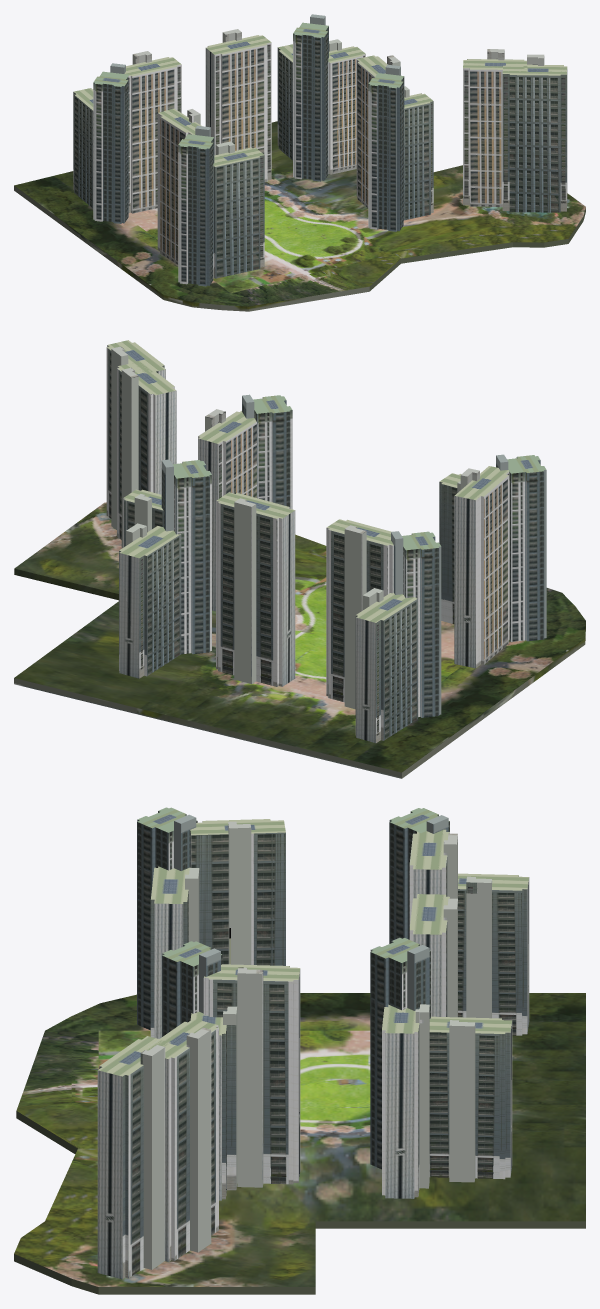
Rendered from ICJ00100.glb.
The picture shows the model from 3 angles, top to bottom: view 1: azimuth 30°, elevation 25°; view 2: azimuth 150°, elevation 25°; view 3: azimuth 270°, elevation 25°; orthographic projection. The views are drawn at different scales.
Parts seen in each view (by area): view 1: MainBuilding; view 2: MainBuilding; view 3: MainBuilding.
Part boxes in pixels (bbox=[...]): MainBuilding: bbox=[14, 14, 585, 311]; MainBuilding: bbox=[14, 340, 585, 778]; MainBuilding: bbox=[14, 807, 585, 1294].
Size of the model in its own units: 11173 by 4070 by 9187.
Materials: 1 (1 with a texture image).
